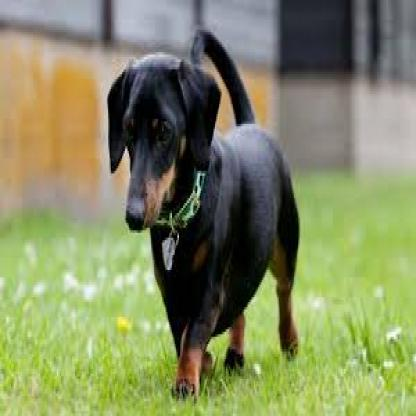Dachshund: (104, 28, 310, 386)
